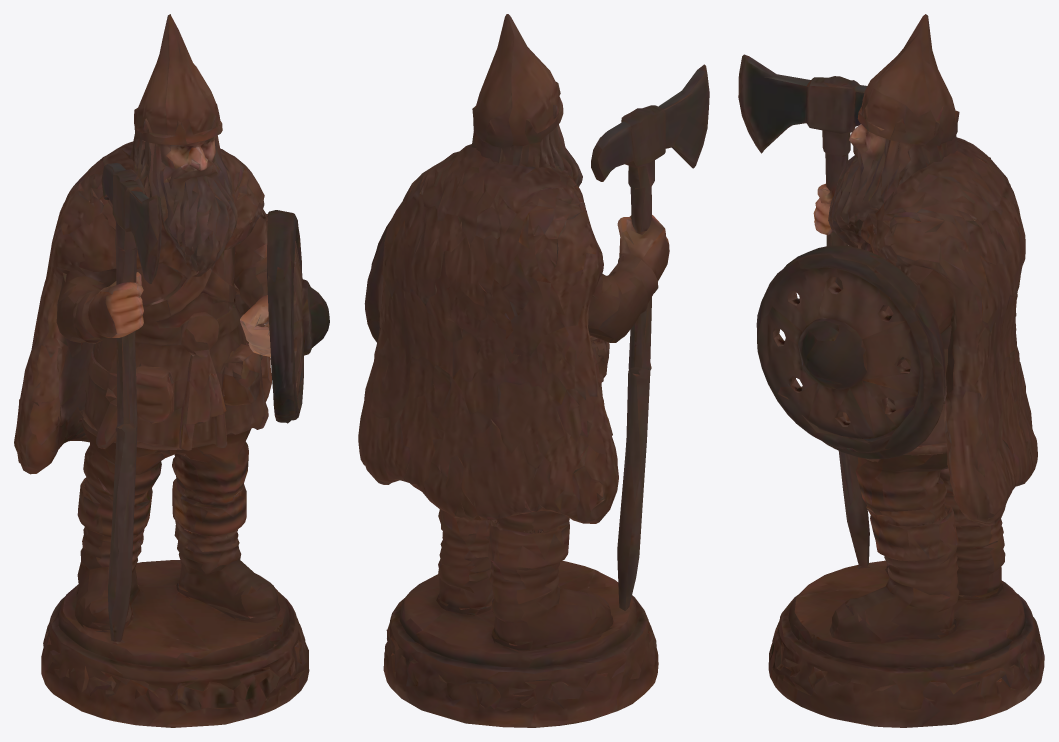
Rendered from piece-raider2.glb.
3 views of the same model, side by side, from view 1: azimuth 30°, elevation 25°; view 2: azimuth 150°, elevation 25°; view 3: azimuth 270°, elevation 25° (orthographic). The views are drawn at different scales.
Bounding box in the file's own units: 0.8013 × 1.9 × 0.7985.
1 material, 1 textured.
